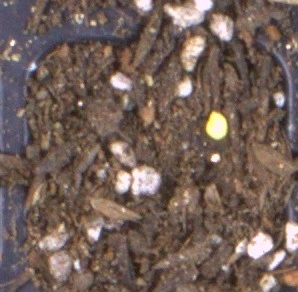chilli seed: (204, 110, 228, 140)
